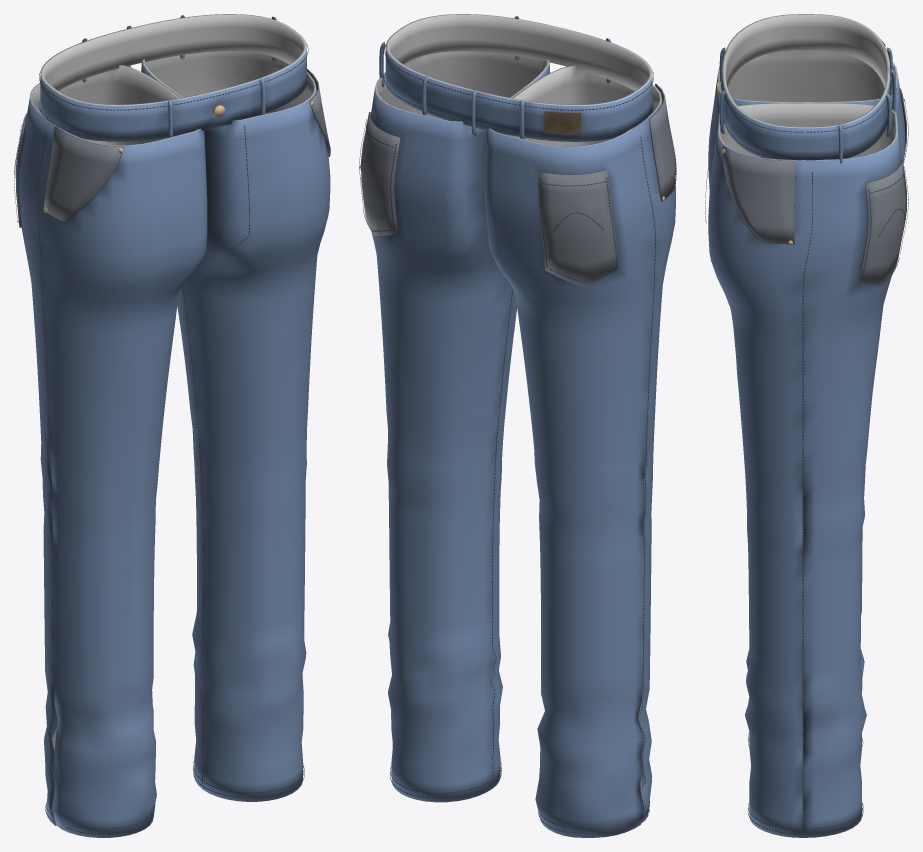
File: jeans-straight-lo.glb
3 renders of one model, left to right at view 1: azimuth 30°, elevation 25°; view 2: azimuth 150°, elevation 25°; view 3: azimuth 270°, elevation 25°, orthographic. The views are drawn at different scales.
Visible parts, largest first — view 1: leg_r, leg_l, waistband, frontpocket.001, stitches; view 2: leg_r, leg_l, waistband, backpocket.001, backpocket, stitches, frontpocket.001, patch; view 3: leg_l, waistband, leg_r, frontpocket, backpocket, stitches.
Part boxes in pixels (bbox=[...]): leg_r: bbox=[17, 65, 207, 837]; leg_l: bbox=[141, 51, 330, 801]; waistband: bbox=[40, 14, 306, 141]; frontpocket.001: bbox=[43, 127, 123, 221]; stitches: bbox=[14, 45, 330, 834]; leg_r: bbox=[484, 65, 675, 837]; leg_l: bbox=[370, 51, 550, 802]; waistband: bbox=[385, 14, 652, 141]; backpocket.001: bbox=[538, 169, 618, 287]; backpocket: bbox=[361, 112, 400, 236]; stitches: bbox=[359, 45, 676, 833]; frontpocket.001: bbox=[649, 84, 676, 201]; patch: bbox=[544, 111, 580, 134]; leg_l: bbox=[708, 103, 902, 837]; waistband: bbox=[722, 14, 890, 160]; leg_r: bbox=[708, 49, 905, 705]; frontpocket: bbox=[722, 146, 795, 244]; backpocket: bbox=[859, 160, 906, 286]; stitches: bbox=[705, 53, 908, 834].
Size of the model in its own units: 0.3918 by 1.01 by 0.2613.
